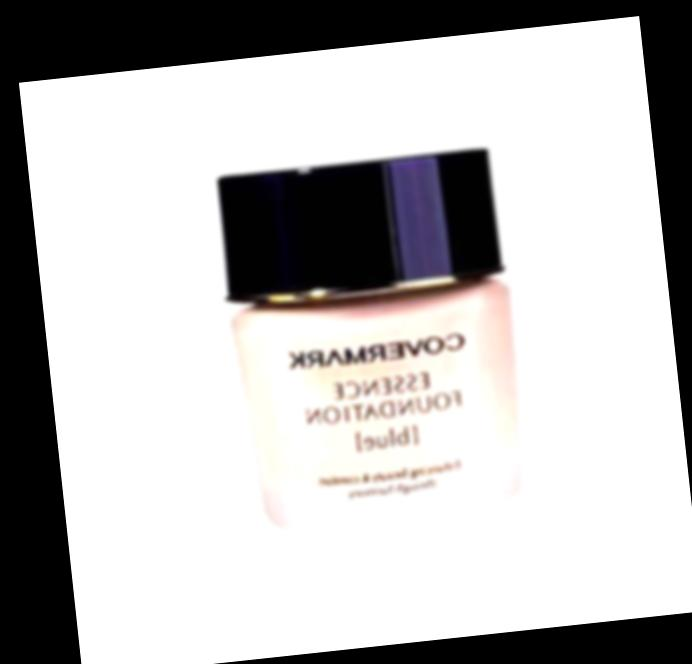cosmetic: (211, 146, 535, 538)
